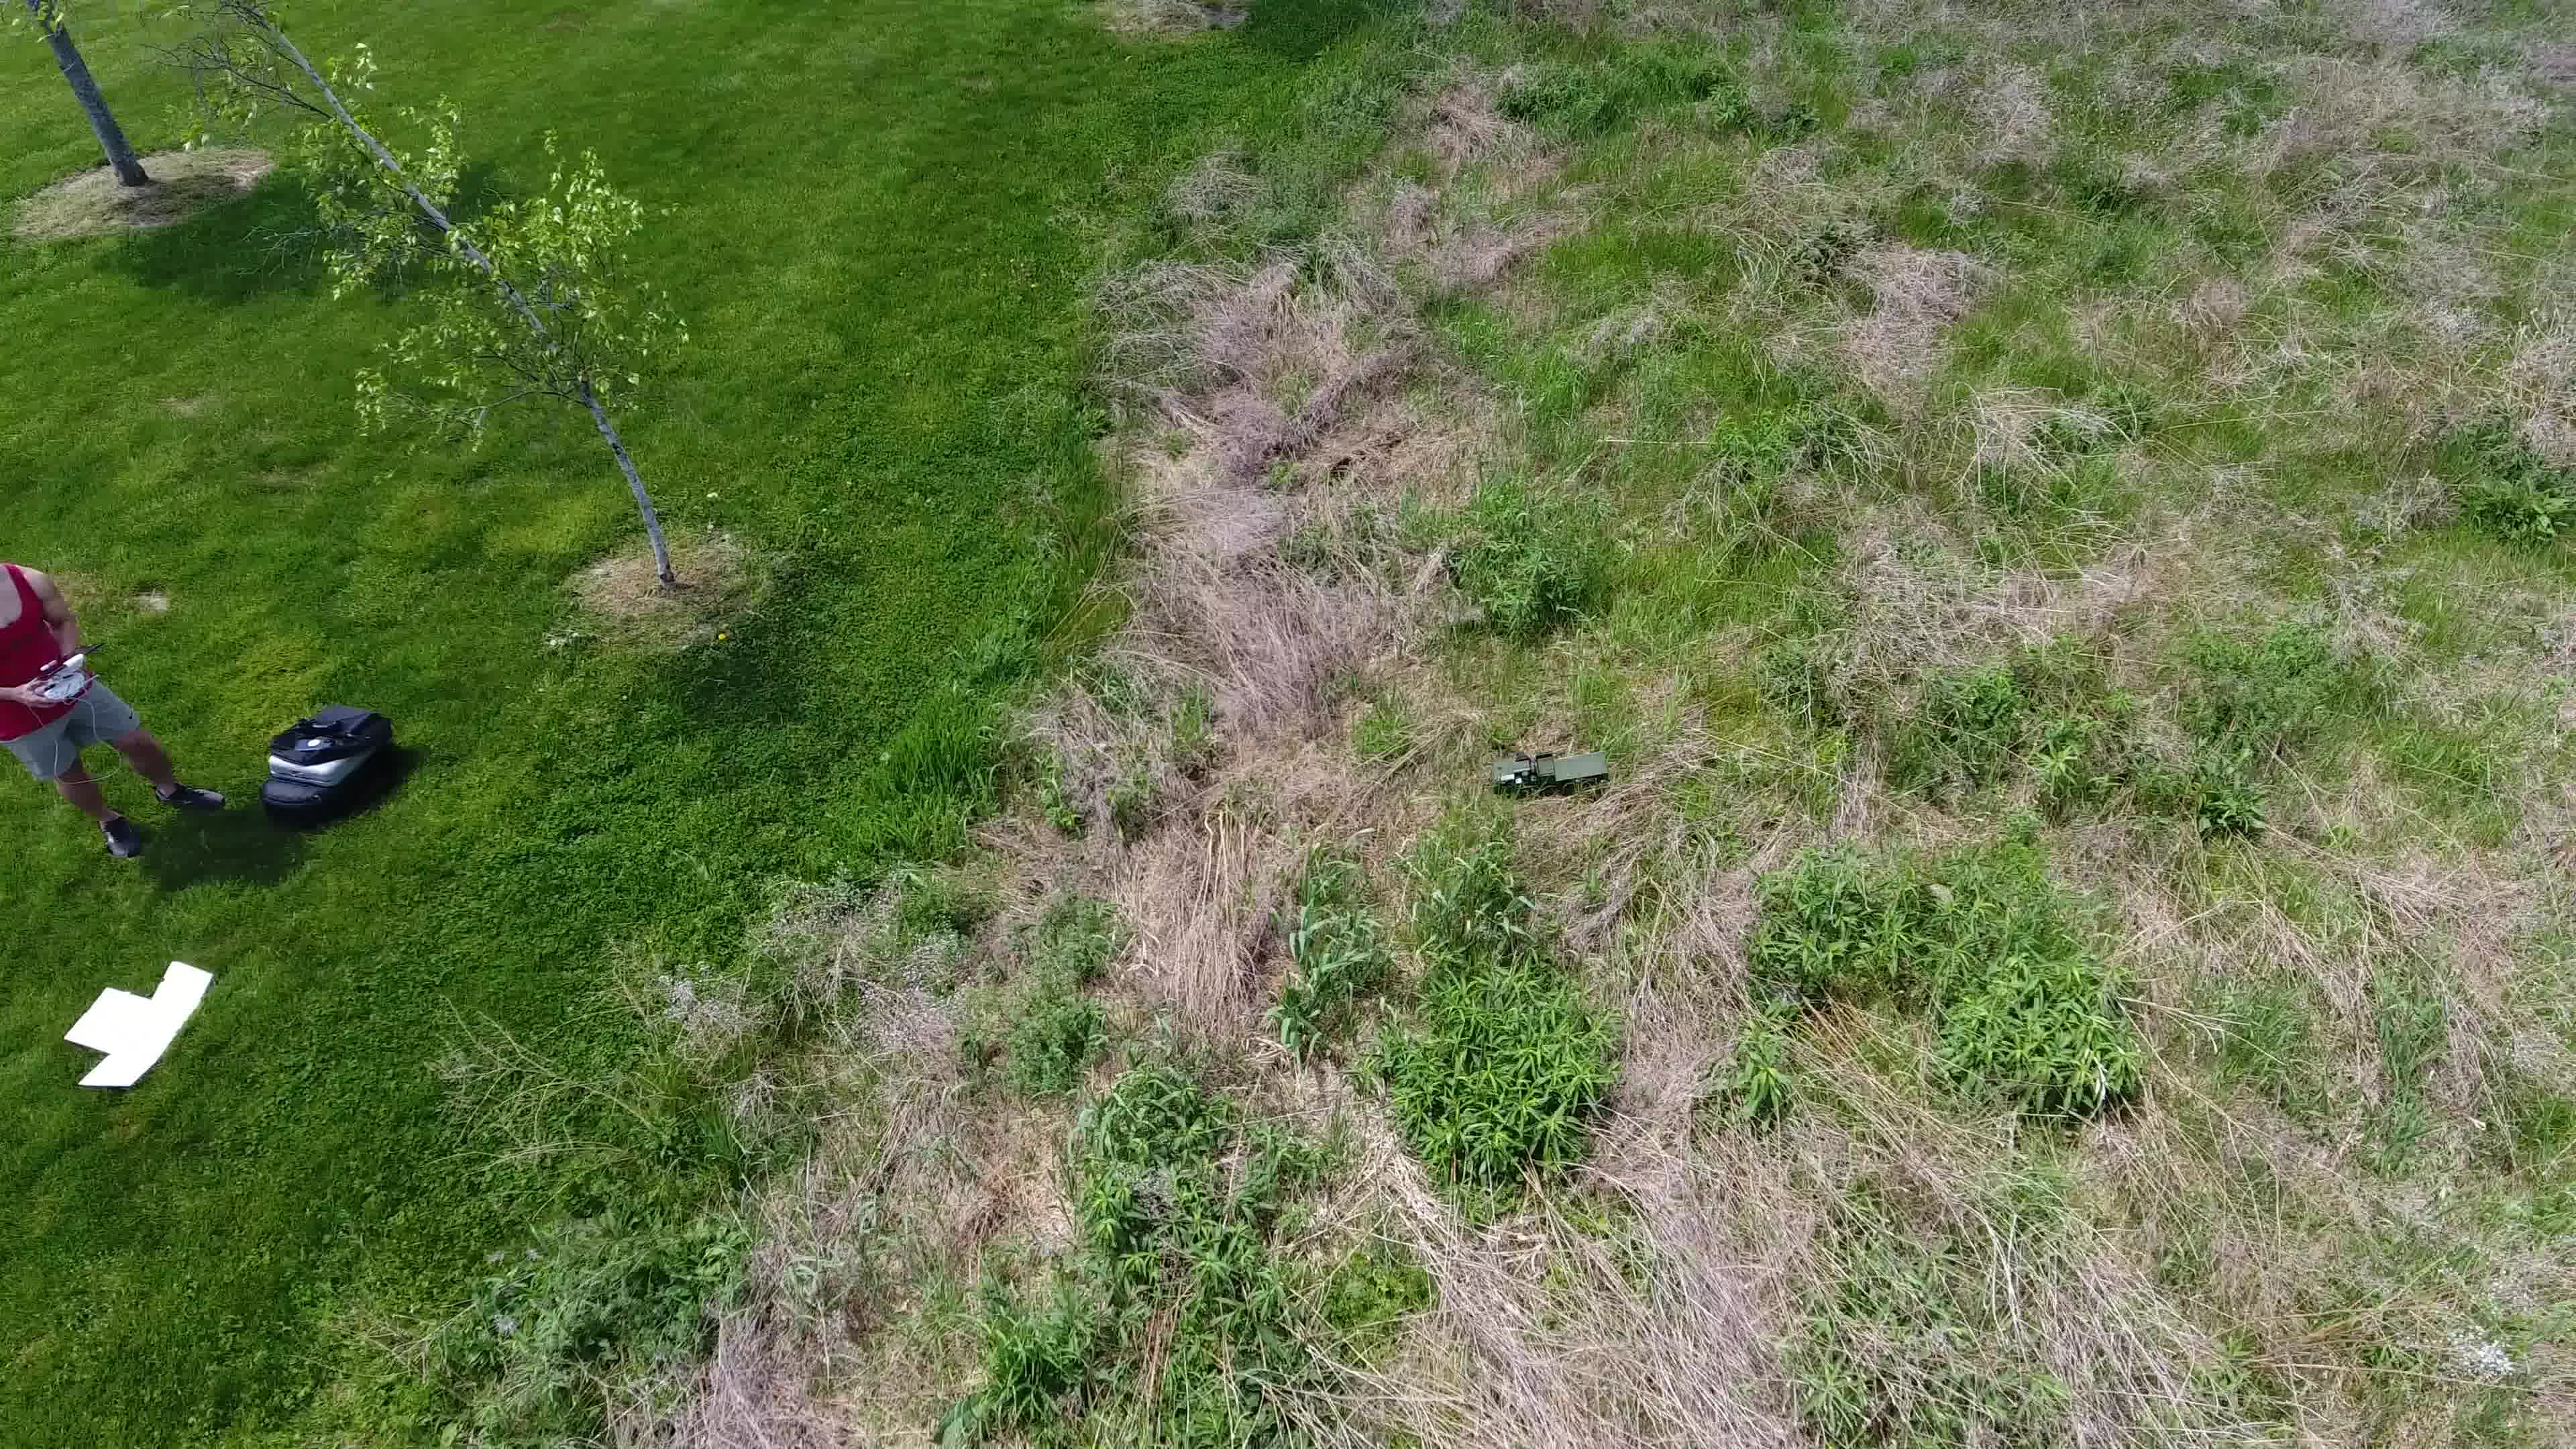transporter9: (1486, 745, 1610, 800)
